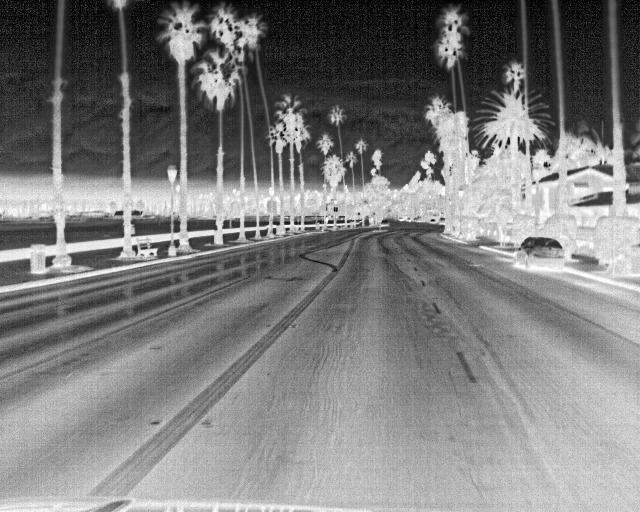car: (514, 237, 568, 272), (378, 218, 390, 229), (438, 216, 446, 226)
